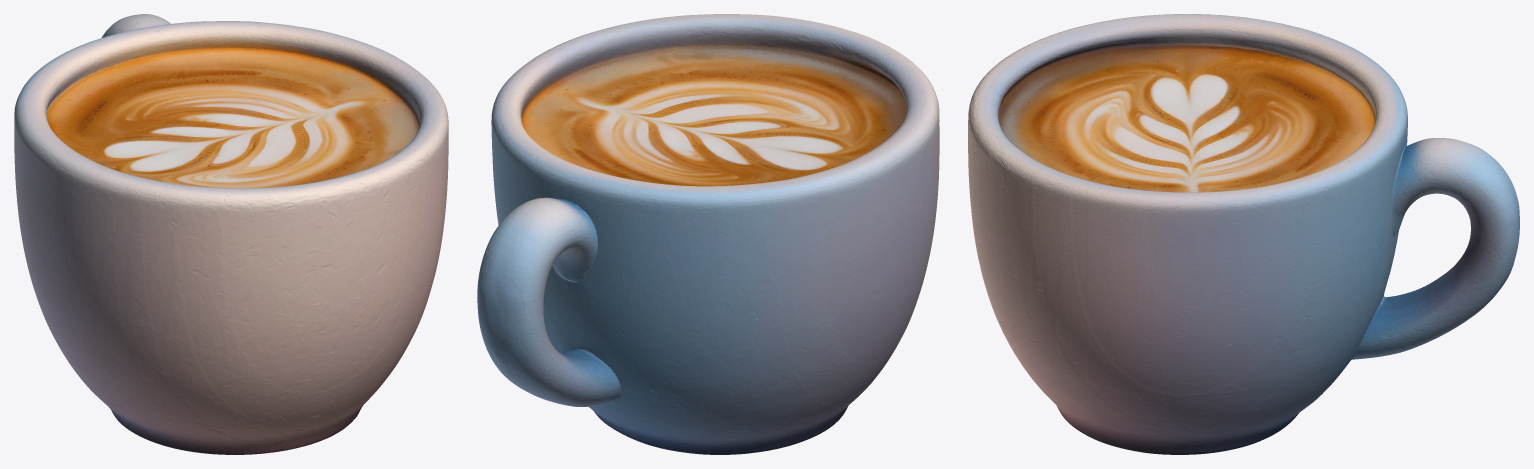
File: latte_art_opt.glb
3 views of the same model, side by side, from view 1: azimuth 30°, elevation 25°; view 2: azimuth 150°, elevation 25°; view 3: azimuth 270°, elevation 25° (orthographic). The views are drawn at different scales.
Visible parts, largest first — view 1: tripo_node_3cbd95ab-9bd8-4467-a6c1-a6cde505cbde; view 2: tripo_node_3cbd95ab-9bd8-4467-a6c1-a6cde505cbde; view 3: tripo_node_3cbd95ab-9bd8-4467-a6c1-a6cde505cbde.
Boxes of the visible parts, x1,y1,x2,y2 form: tripo_node_3cbd95ab-9bd8-4467-a6c1-a6cde505cbde: (14, 14, 448, 454); tripo_node_3cbd95ab-9bd8-4467-a6c1-a6cde505cbde: (477, 14, 939, 454); tripo_node_3cbd95ab-9bd8-4467-a6c1-a6cde505cbde: (968, 14, 1519, 454).
Size of the model in its own units: 0.7886 by 0.6032 by 1.
Materials: 1 (1 with a texture image).
